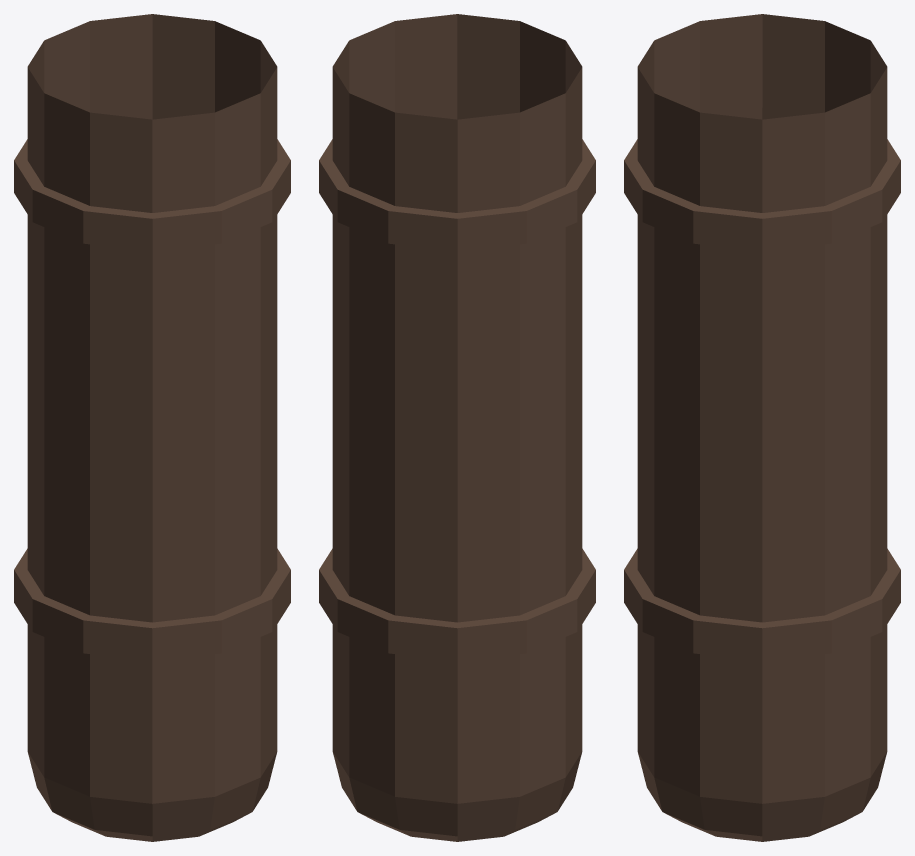
The model's file is Carcaj.fbx.
3 views of the same model, side by side, from view 1: azimuth 30°, elevation 25°; view 2: azimuth 150°, elevation 25°; view 3: azimuth 270°, elevation 25° (orthographic).
Visible parts, largest first — view 1: Carcaj; view 2: Carcaj; view 3: Carcaj.
Part boxes in pixels (x1,y1,x2,y2): Carcaj: [14, 14, 290, 841]; Carcaj: [319, 14, 595, 841]; Carcaj: [624, 14, 900, 841].
Bounding box in the file's own units: 42.71 × 125 × 42.71.
